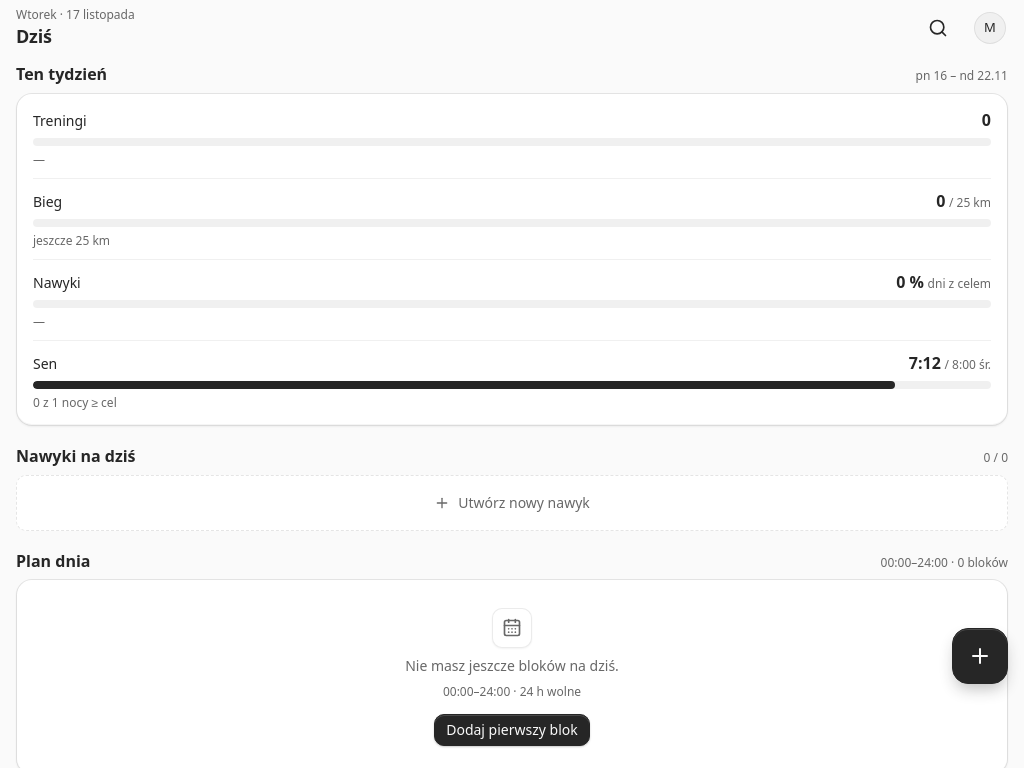
MToday › pusty dzień (CMEmptyToday): „Nie masz jeszcze bloków na dziś.”, „Dodaj pierwszy blok” i „Utwórz nowy nawyk”
Check: the text "Nie masz jeszcze bloków na dziś." is shown, box top-left (405, 656), bottom-right (619, 676)
Check: the text "00:00–24:00 · 0 bloków" is shown, box top-left (881, 555), bottom-right (1008, 571)
Step 1. Click the button "Utwórz nowy nawyk" → (512, 503), box top-left (16, 475), bottom-right (1008, 531)
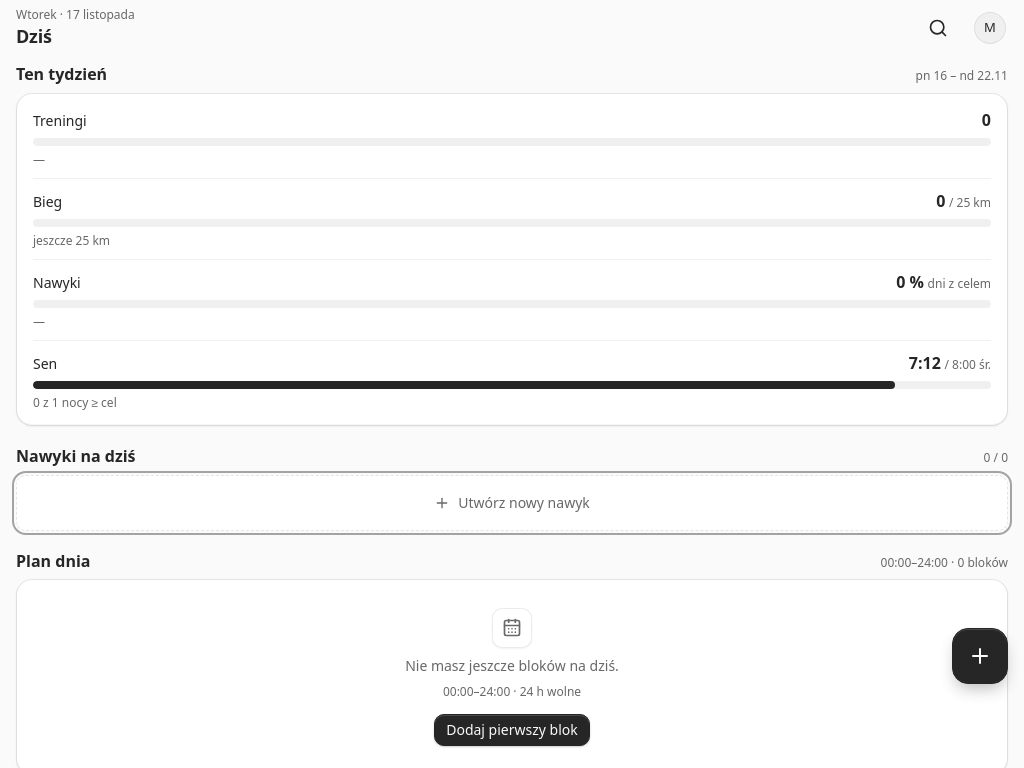
Step 2. Click the button "Dodaj pierwszy blok" → (512, 730), box top-left (434, 714), bottom-right (590, 746)
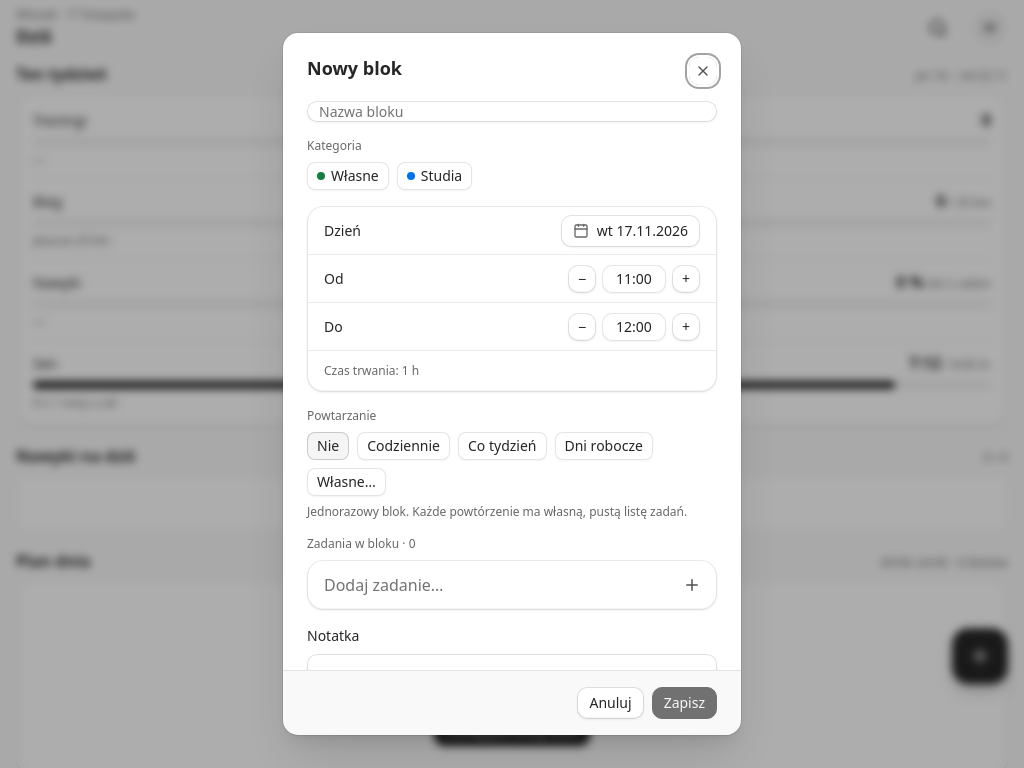
Check: the dialog "Nowy blok" is shown, box top-left (282, 32), bottom-right (742, 736)
